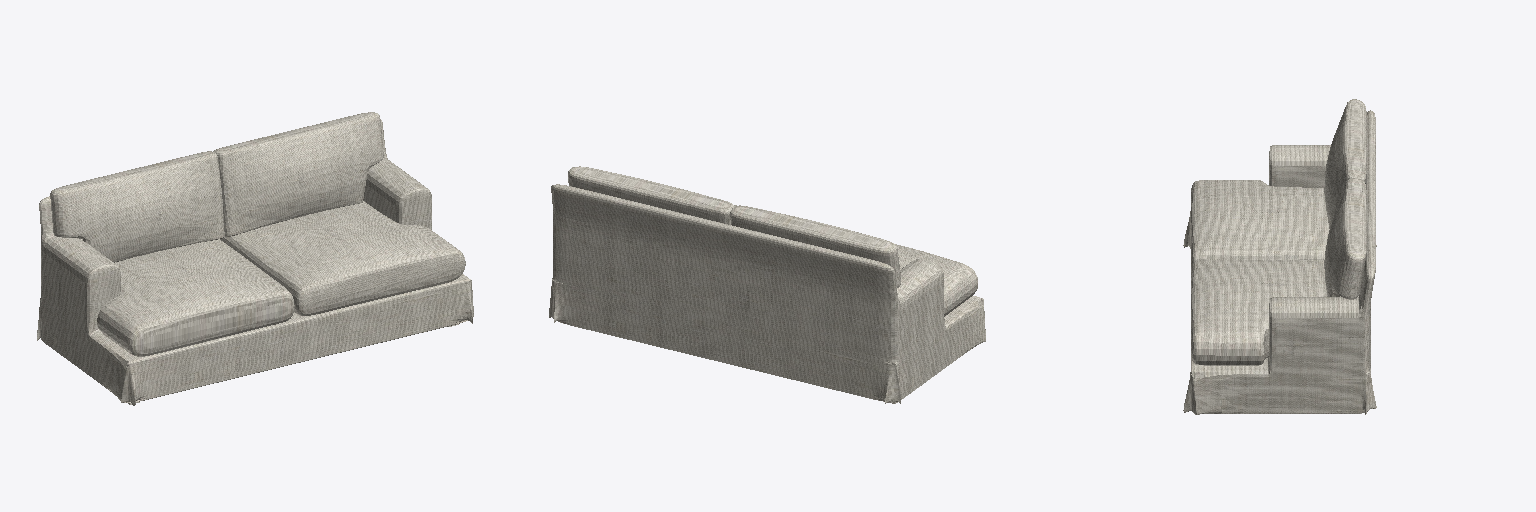
3 views of the same model, side by side, from view 1: azimuth 30°, elevation 25°; view 2: azimuth 150°, elevation 25°; view 3: azimuth 270°, elevation 25° (orthographic).
Visible parts, largest first — view 1: Box09, Box08, Box06, Box07, Box02; view 2: Box09, Box02, Box07, Box06; view 3: Box09, Box06, Box08, Box07, Box02.
Part boxes in pixels (x1,y1,x2,y2): Box09: (37,120,473,405); Box08: (220,201,465,315); Box06: (97,239,294,356); Box07: (213,112,383,236); Box02: (50,151,224,262); Box09: (549,184,985,403); Box02: (730,205,900,287); Box07: (568,166,734,224); Box06: (895,244,977,316); Box09: (1183,110,1376,414); Box06: (1191,180,1329,268); Box08: (1191,260,1359,365); Box07: (1324,178,1366,299); Box02: (1324,99,1366,228).
Bounding box in the file's own units: 240 × 102 × 114.
Materials: 1 (1 with a texture image).